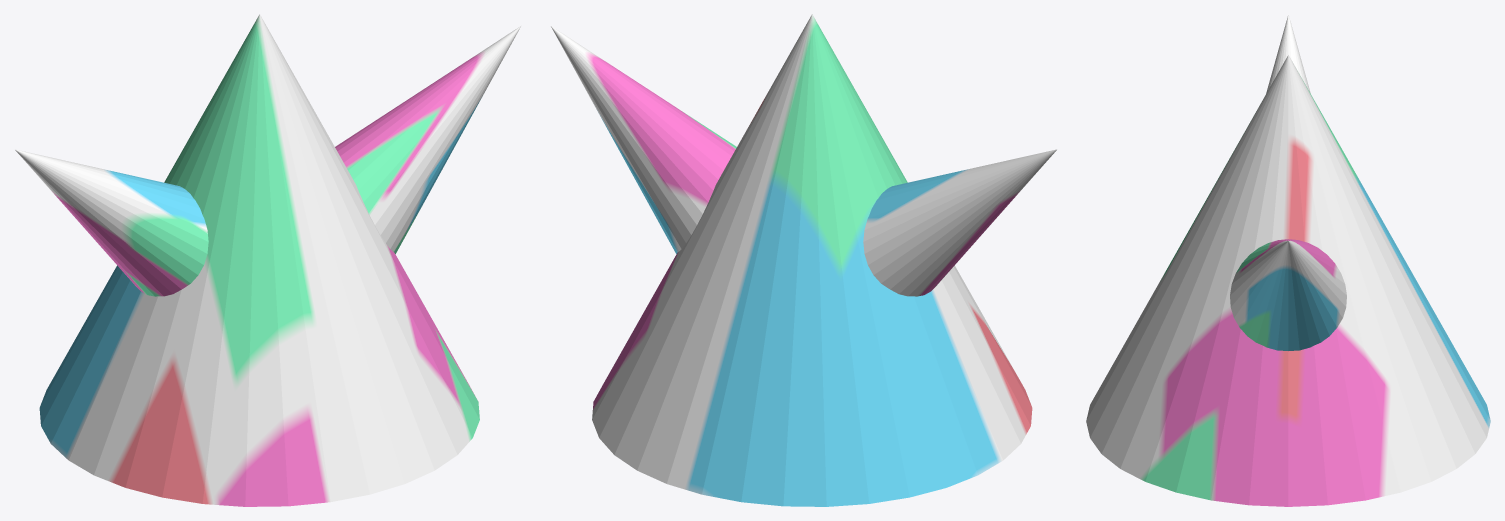
Rendered from Nedle.obj.
The picture shows the model from 3 angles, left to right: view 1: azimuth 30°, elevation 25°; view 2: azimuth 150°, elevation 25°; view 3: azimuth 270°, elevation 25°; orthographic projection. The views are drawn at different scales.
Parts seen in each view (by area): view 1: 円錐.001; view 2: 円錐.001; view 3: 円錐.001.
Part boxes in pixels (<box>): 円錐.001: <box>15,14,520,506</box>; 円錐.001: <box>551,14,1056,506</box>; 円錐.001: <box>1086,14,1490,506</box>.
Bounding box in the file's own units: 2.65 × 2.01 × 2.
1 material, 1 textured.
